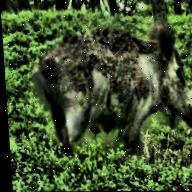boar: (31, 18, 192, 159)
